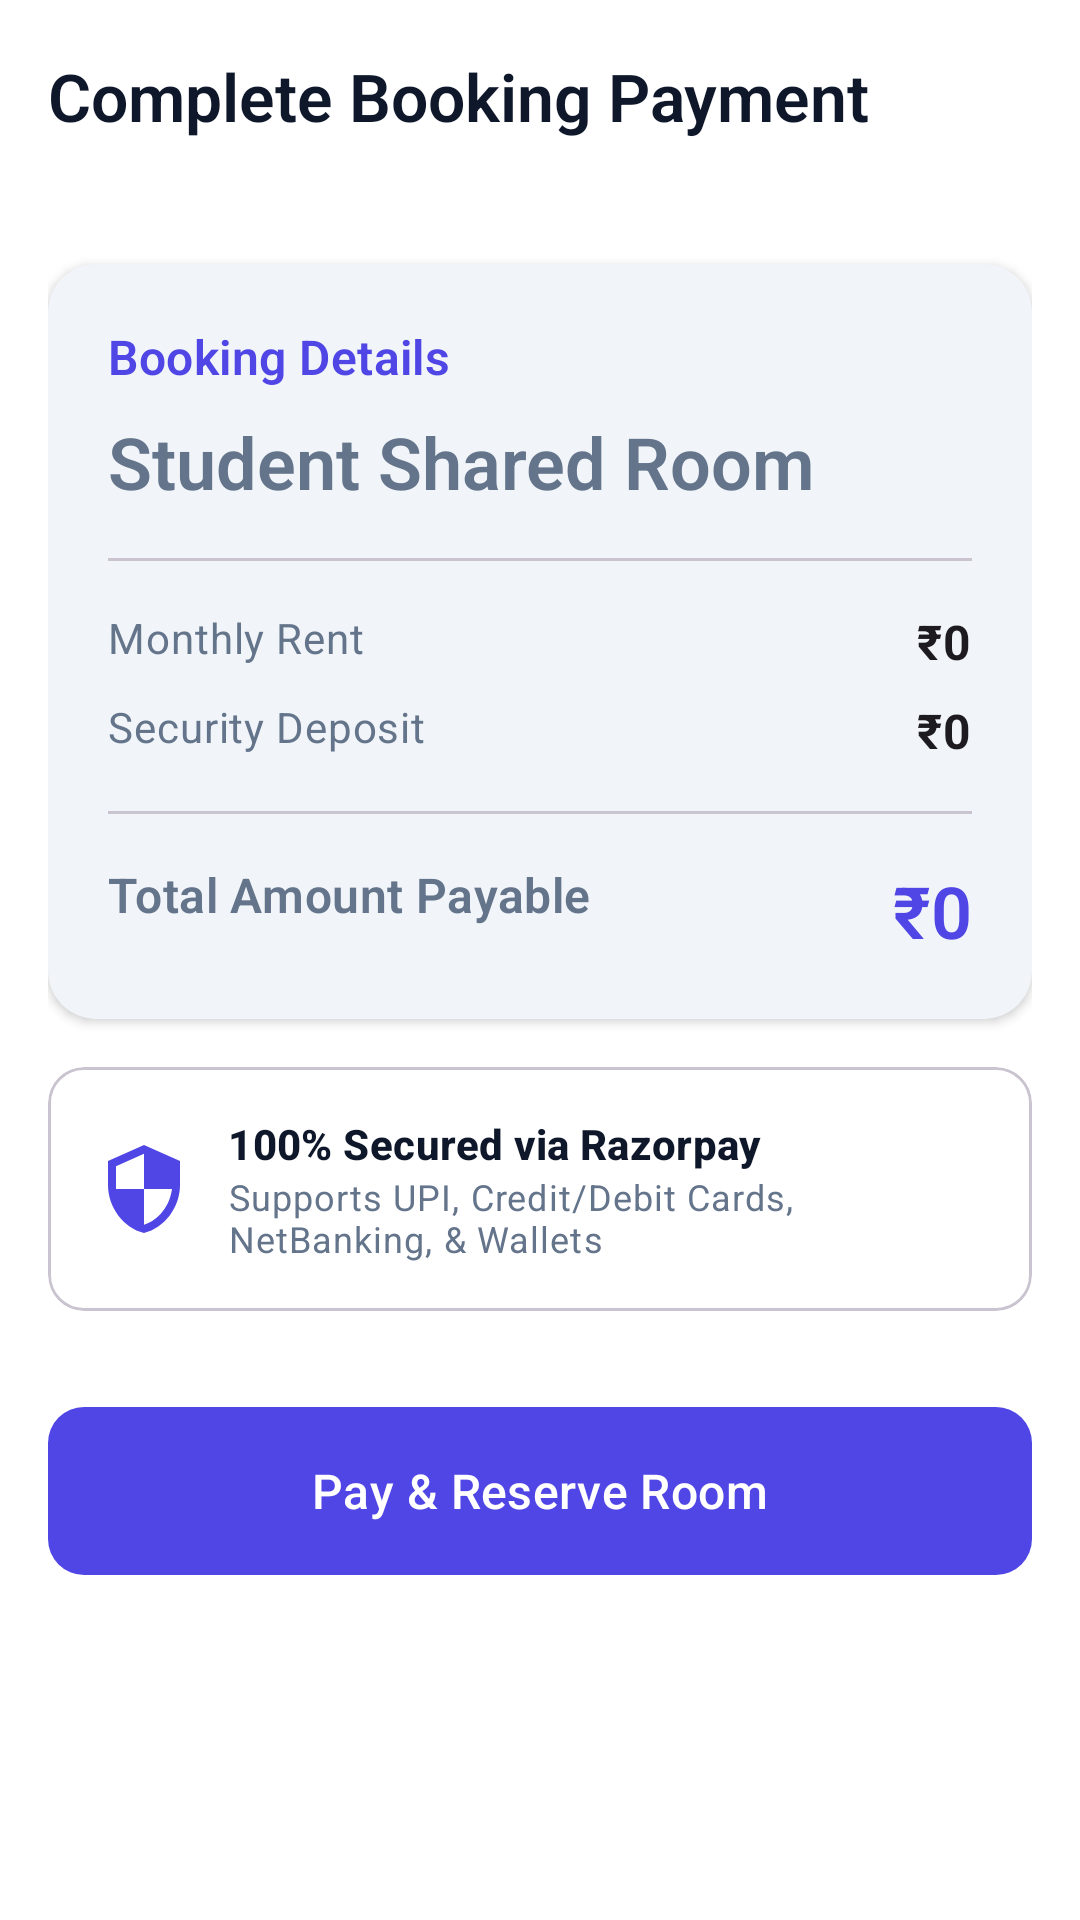

Screen size 1080 x 1920. Icon name, then its box in pixels as box=[x1, y1, x2, y2]:
security: box=[108, 1145, 180, 1233]
